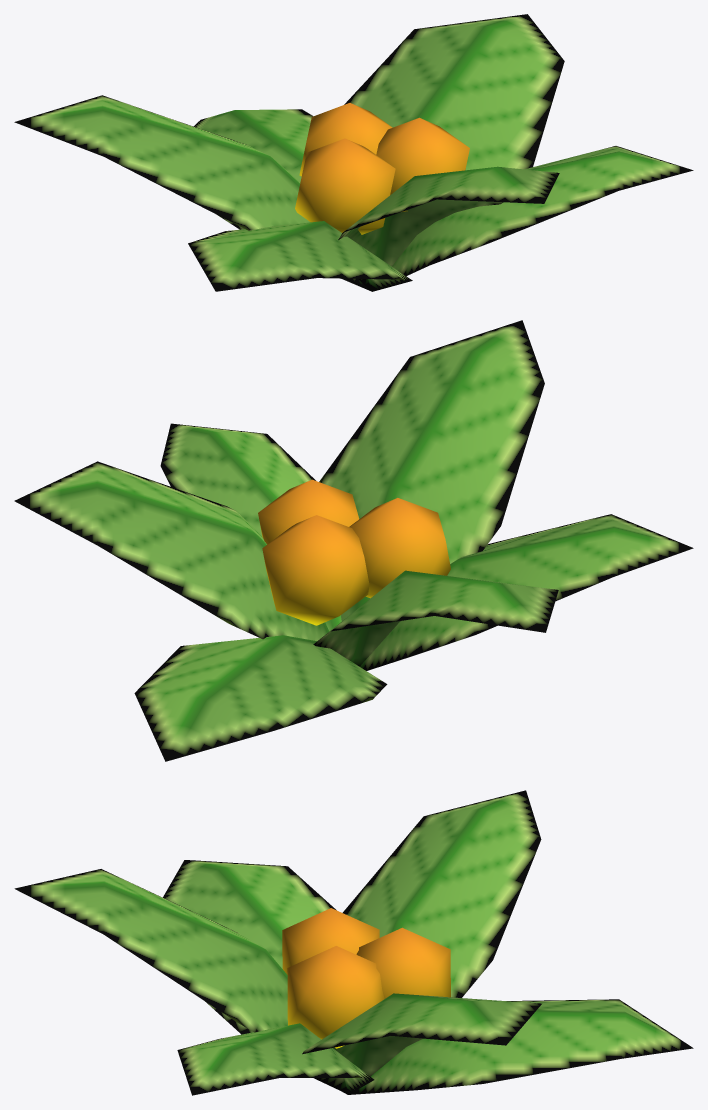
The model's file is deco_fruitOrangeLEaves.FBX.
The picture shows the model from 3 angles, top to bottom: view 1: azimuth 30°, elevation 25°; view 2: azimuth 150°, elevation 25°; view 3: azimuth 270°, elevation 25°; orthographic projection. The views are drawn at different scales.
Parts seen in each view (by area): view 1: deco_fruitOrangeLEaves; view 2: deco_fruitOrangeLEaves; view 3: deco_fruitOrangeLEaves.
Part boxes in pixels (x1,y1,x2,y2): deco_fruitOrangeLEaves: [14, 14, 693, 291]; deco_fruitOrangeLEaves: [14, 320, 693, 761]; deco_fruitOrangeLEaves: [14, 790, 693, 1095].
Bounding box in the file's own units: 1.62 × 0.6399 × 1.84.
1 material, 1 textured.
